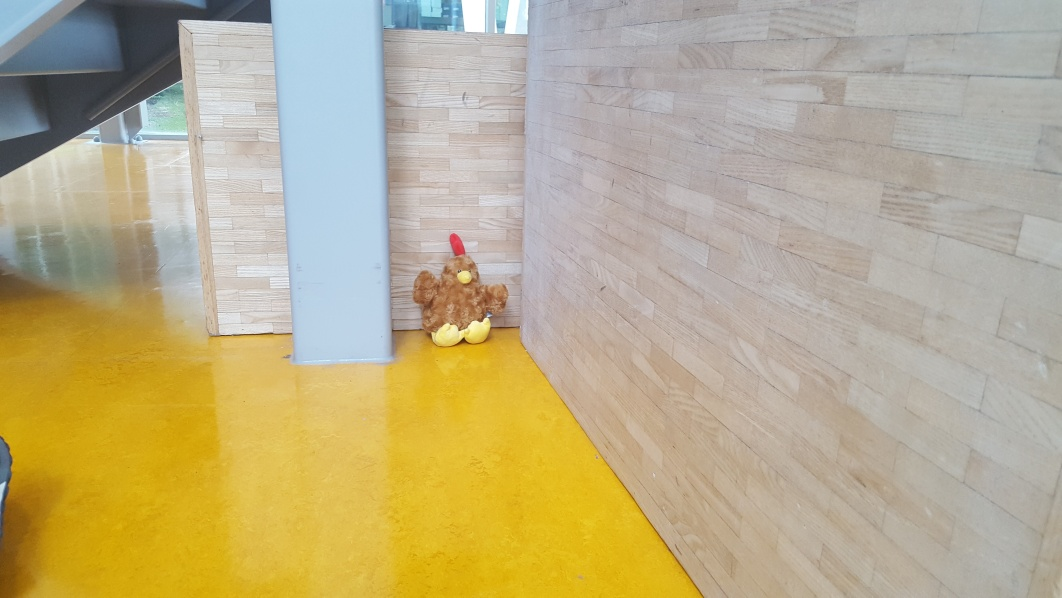chicken: (411, 234, 509, 351)
